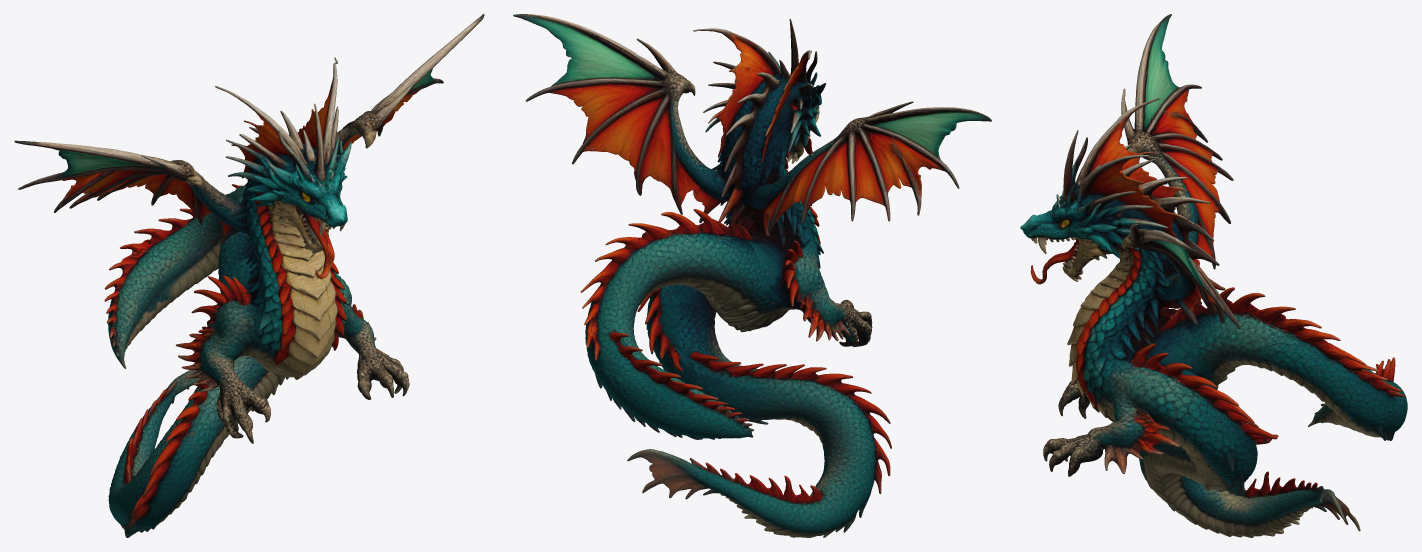
File: dragon del mar.glb
3 views of the same model, side by side, from view 1: azimuth 30°, elevation 25°; view 2: azimuth 150°, elevation 25°; view 3: azimuth 270°, elevation 25° (orthographic). The views are drawn at different scales.
Visible parts, largest first — view 1: tripo_node_318e6b75-4ae0-4b94-aef0-f3dd268bb1c8; view 2: tripo_node_318e6b75-4ae0-4b94-aef0-f3dd268bb1c8; view 3: tripo_node_318e6b75-4ae0-4b94-aef0-f3dd268bb1c8.
Part boxes in pixels (x1,y1,x2,y2): tripo_node_318e6b75-4ae0-4b94-aef0-f3dd268bb1c8: (14,14,484,537); tripo_node_318e6b75-4ae0-4b94-aef0-f3dd268bb1c8: (513,14,991,537); tripo_node_318e6b75-4ae0-4b94-aef0-f3dd268bb1c8: (1020,14,1407,537).
Bounding box in the file's own units: 1 × 0.9031 × 0.6887.
1 material, 1 textured.
